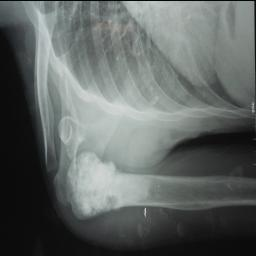cancer: (68, 150, 152, 218)
